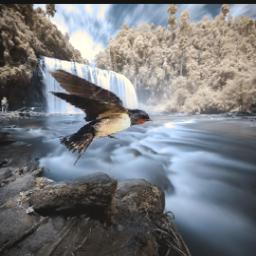Swallow: (41, 69, 152, 166)
